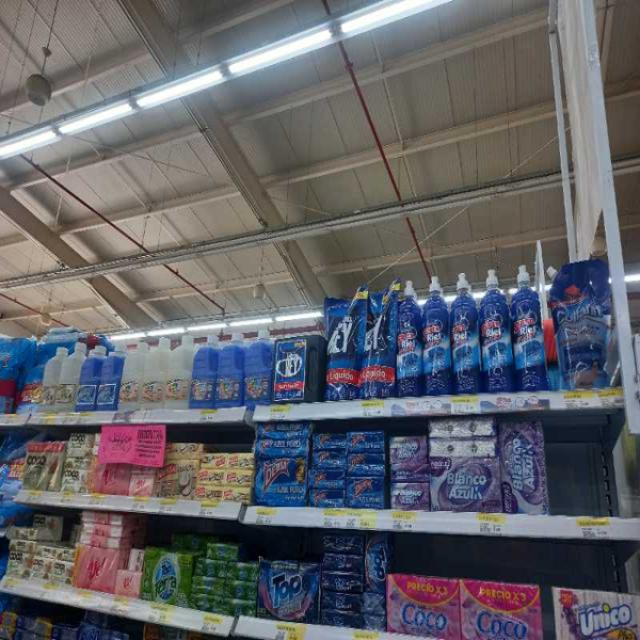Jabon_rey: (272, 335, 327, 407)
Super_Riel: (509, 264, 549, 394), (482, 270, 514, 396), (452, 272, 484, 393), (425, 274, 454, 395), (399, 278, 425, 396)
